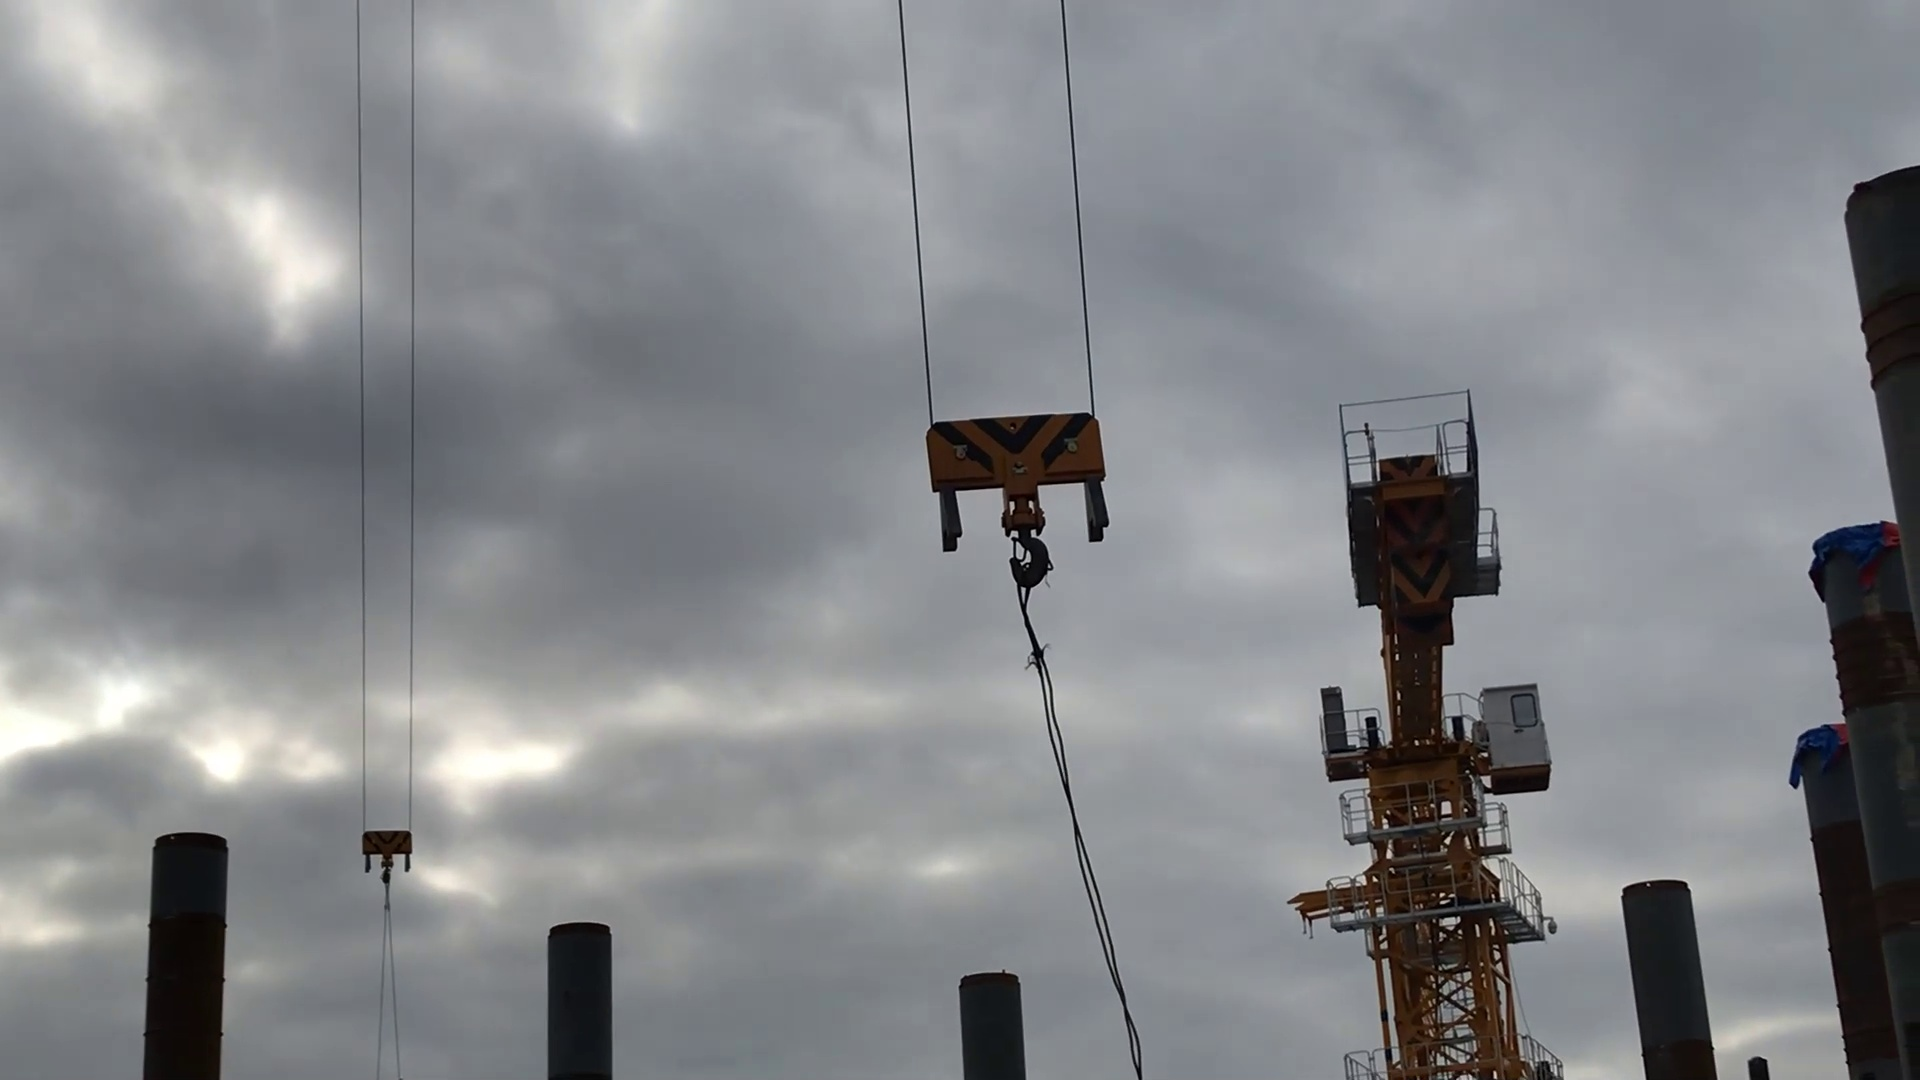hook: (907, 407, 1121, 580), (357, 818, 419, 884)
